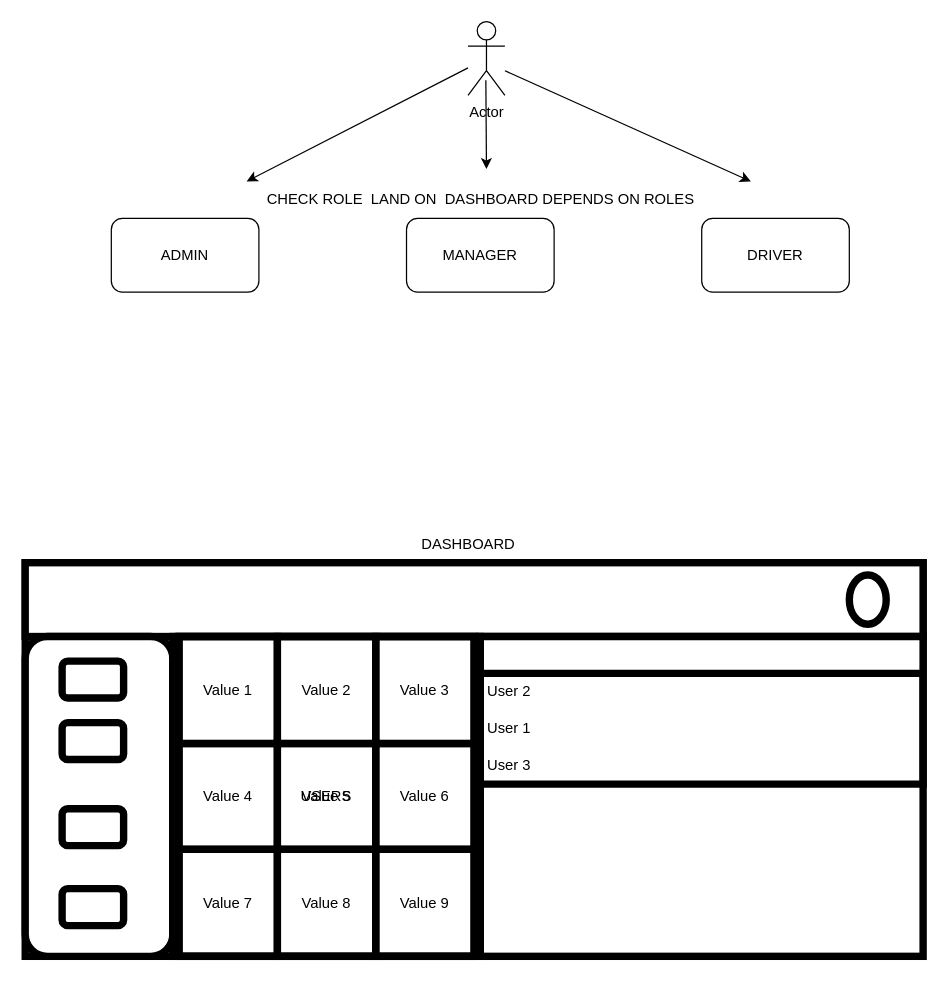
Image size: 947x982. Some labels were removed from this diagram. Here are the shapes that lost their labels. From the top down, the box of each, then its label:
(21, 558, 926, 640): NAV-BAR
(476, 632, 926, 787): List
(21, 632, 176, 959): Buttons or Routes
